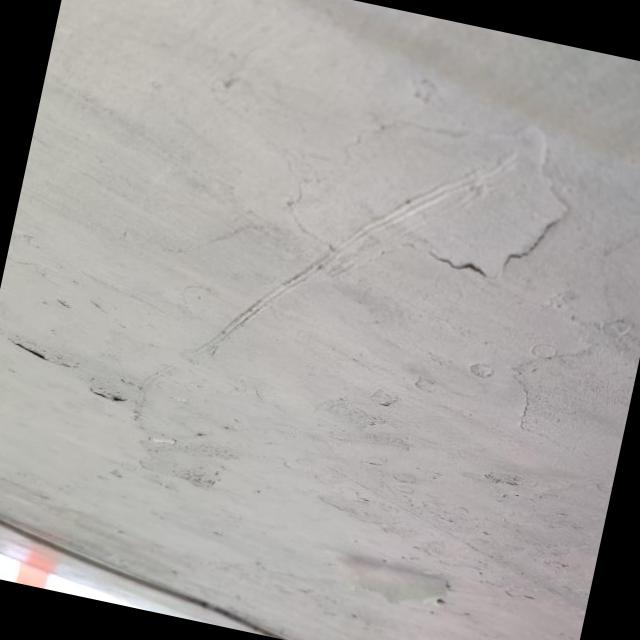Paint-off: (335, 555, 448, 605)
Scratch: (191, 151, 519, 357)
